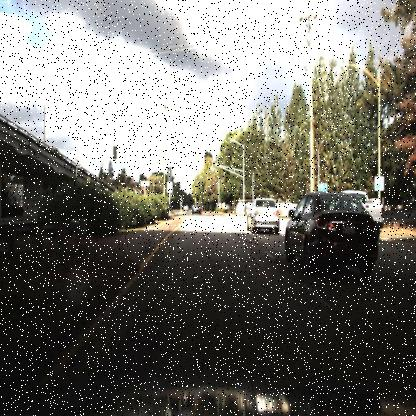car: (282, 198, 382, 290), (244, 196, 284, 233), (360, 189, 387, 231), (188, 200, 202, 216)
trafficLight-Green: (212, 156, 216, 173)
